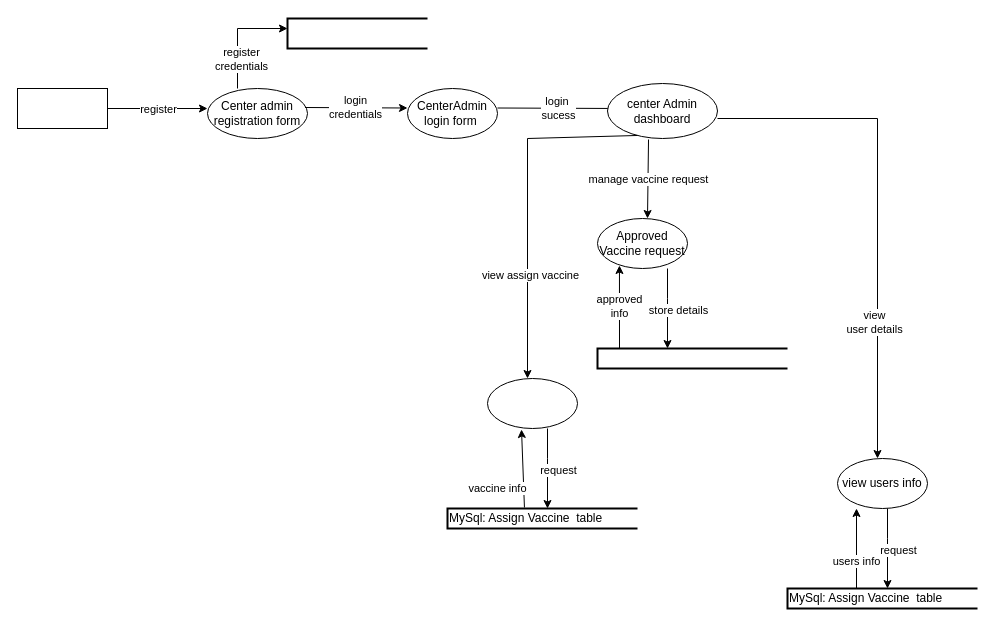
This 996x626 diagram has some shape labels left out. Each missing label, with the centre of its shape:
Center Admin: point (62, 108)
MySql: Center Admin table: point (357, 33)
MySql: Vaccination approved table: point (692, 358)
view vaccine: point (532, 403)
